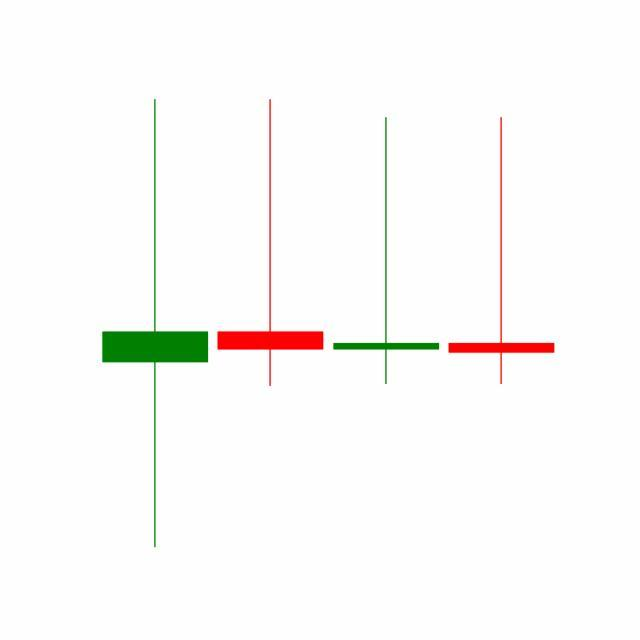Gravestone Doji: (444, 114, 560, 388)
